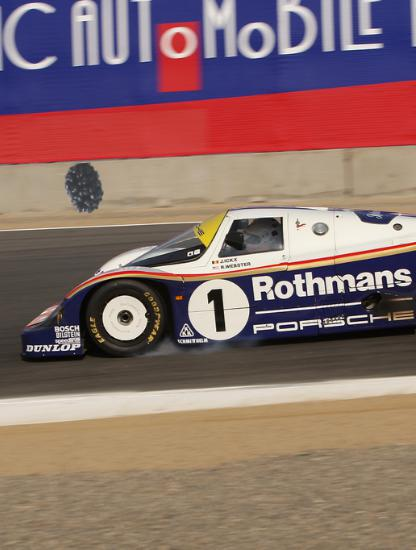Mulberry: (58, 163, 110, 215)
